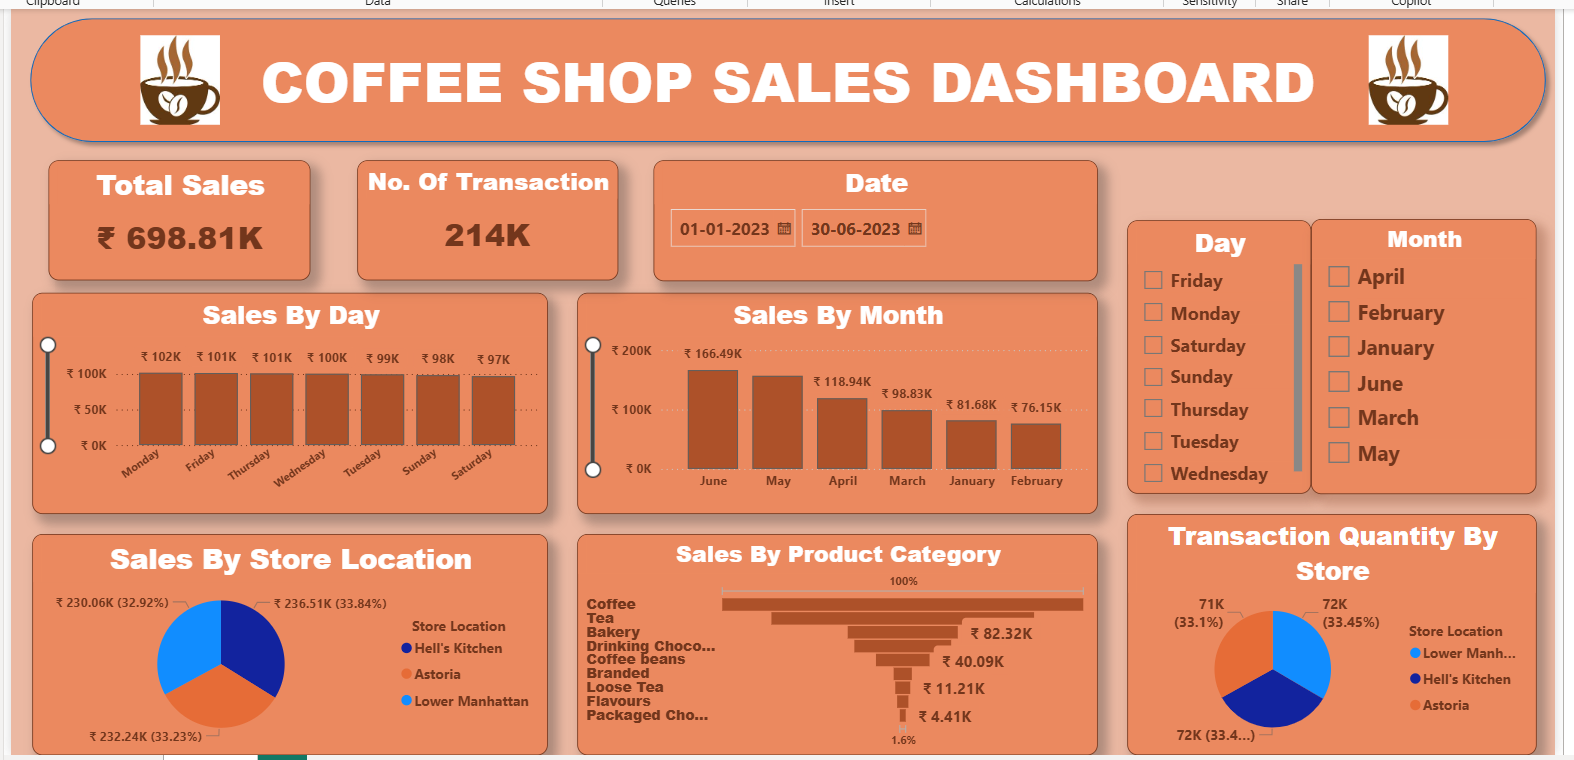

The page's visual inventory and layout, read from the dashboard file:
{"tool":"powerbi","page":{"name":"Page 1","canvas":[1490,720],"ordinal":0},"visuals":[{"type":"shape","box":[9.6,0,1480.7,137.4],"z":0},{"type":"image","box":[91,25.6,145.4,86.3],"z":1000},{"type":"image","box":[1273.1,25.6,151.7,86.3],"z":2000},{"type":"card","title":"Total Sales","fields":{"Values":["Sum(Transactions.Total sales)"]},"box":[36.7,145.5,253.1,116.2],"z":3000},{"type":"pieChart","title":"Sales By Store Location","fields":{"Y":["Sum(Transactions.Total sales)"],"Category":["Transactions.store_location"]},"box":[20.8,506.3,497.7,214],"z":4000},{"type":"lineStackedColumnComboChart","title":"Sales By Month","fields":{"Category":["Transactions.Month Name"],"Y":["Sum(Transactions.Total sales)"]},"box":[546.6,273.9,502.6,214],"z":5000},{"type":"lineStackedColumnComboChart","title":"Sales By Day","fields":{"Y":["Sum(Transactions.Total sales)"],"Category":["Transactions.Day Name"]},"box":[20.8,273.9,497.7,214],"z":6000},{"type":"funnel","title":"Sales By Product Category","fields":{"Category":["Transactions.product_category"],"Y":["Sum(Transactions.Total sales)"]},"box":[546.6,506.3,502.6,214],"z":7000},{"type":"card","title":"No. Of Transaction","fields":{"Values":["Sum(Transactions.transaction_qty)"]},"box":[333.8,145.5,251.9,116.2],"z":8000},{"type":"pieChart","title":"Transaction Quantity By Store","fields":{"Category":["Transactions.store_location"],"Y":["Sum(Transactions.transaction_qty)"]},"box":[1077.4,487.3,395.2,232.8],"z":9000},{"type":"slicer","title":"Date","fields":{"Values":["Transactions.transaction_date"]},"box":[619.9,146.2,429.1,116.4],"z":10000},{"type":"slicer","title":"Day","fields":{"Values":["Transactions.Day Name"]},"box":[1077.4,204.4,177.3,263.9],"z":11000},{"type":"slicer","title":"Month","fields":{"Values":["Transactions.Month Name"]},"box":[1254.8,203,217.9,265.3],"z":12000}]}

Visuals, with their boxes in screenshot pixels (x1, y1, x2, y2):
shape: bbox=[14, 0, 1552, 143]
image: bbox=[99, 27, 250, 116]
image: bbox=[1326, 27, 1484, 116]
"Total Sales" card: bbox=[42, 151, 305, 272]
"Sales By Store Location" pieChart: bbox=[26, 526, 543, 748]
"Sales By Month" lineStackedColumnComboChart: bbox=[572, 284, 1094, 507]
"Sales By Day" lineStackedColumnComboChart: bbox=[26, 284, 543, 507]
"Sales By Product Category" funnel: bbox=[572, 526, 1094, 748]
"No. Of Transaction" card: bbox=[351, 151, 612, 272]
"Transaction Quantity By Store" pieChart: bbox=[1123, 506, 1534, 748]
"Date" slicer: bbox=[648, 152, 1094, 273]
"Day" slicer: bbox=[1123, 212, 1307, 486]
"Month" slicer: bbox=[1307, 211, 1534, 486]
